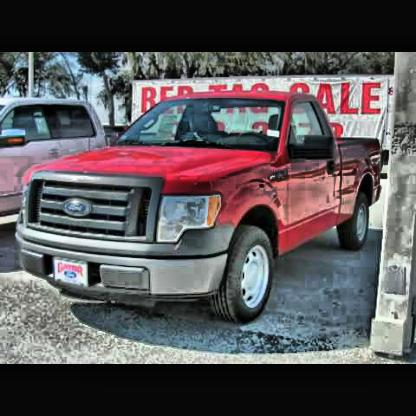Ford F-150 Regular Cab 2012: (16, 91, 384, 325)
